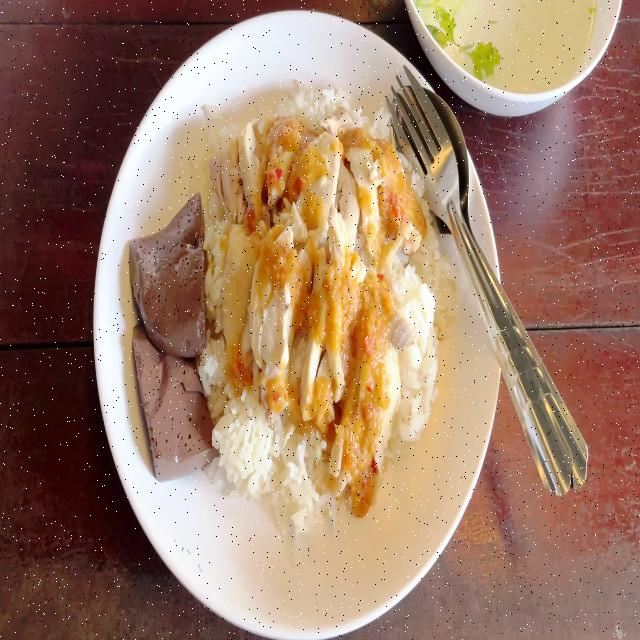boiled_chicken: (216, 124, 406, 477)
boiled_chicken_blood_jelly: (130, 310, 212, 478), (124, 193, 208, 352)
chicken_rice: (118, 71, 467, 552)
